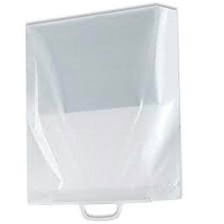plastic_bag: (15, 1, 189, 223)
